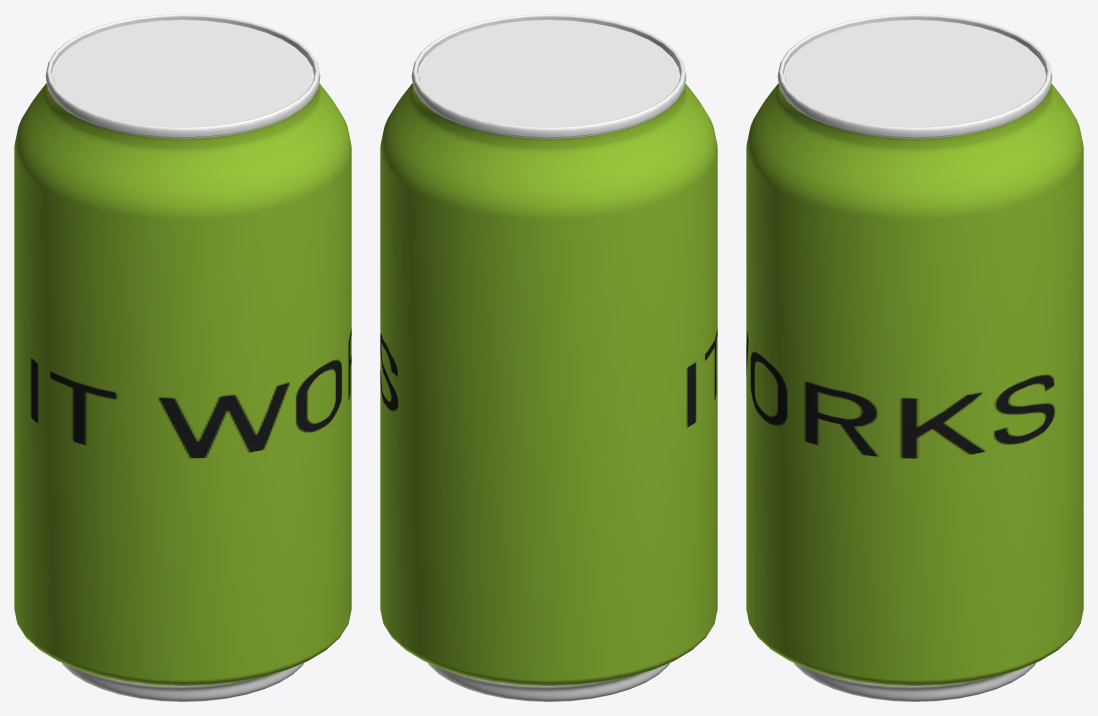
File: texture.obj
3 renders of one model, left to right at view 1: azimuth 30°, elevation 25°; view 2: azimuth 150°, elevation 25°; view 3: azimuth 270°, elevation 25°, orthographic.
Visible parts, largest first — view 1: Soda; view 2: Soda; view 3: Soda.
Part boxes in pixels (x1,y1,x2,y2): Soda: (14,14,351,701); Soda: (380,14,717,701); Soda: (746,14,1083,701).
Bounding box in the file's own units: 132 × 250 × 132.
Materials: 2 (2 with a texture image).
